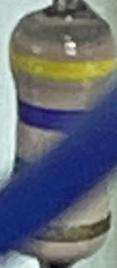Blue: (17, 96, 111, 137)
Green: (9, 158, 106, 185)
Side-Silver: (5, 214, 110, 240)
Yellow: (10, 48, 113, 77)
